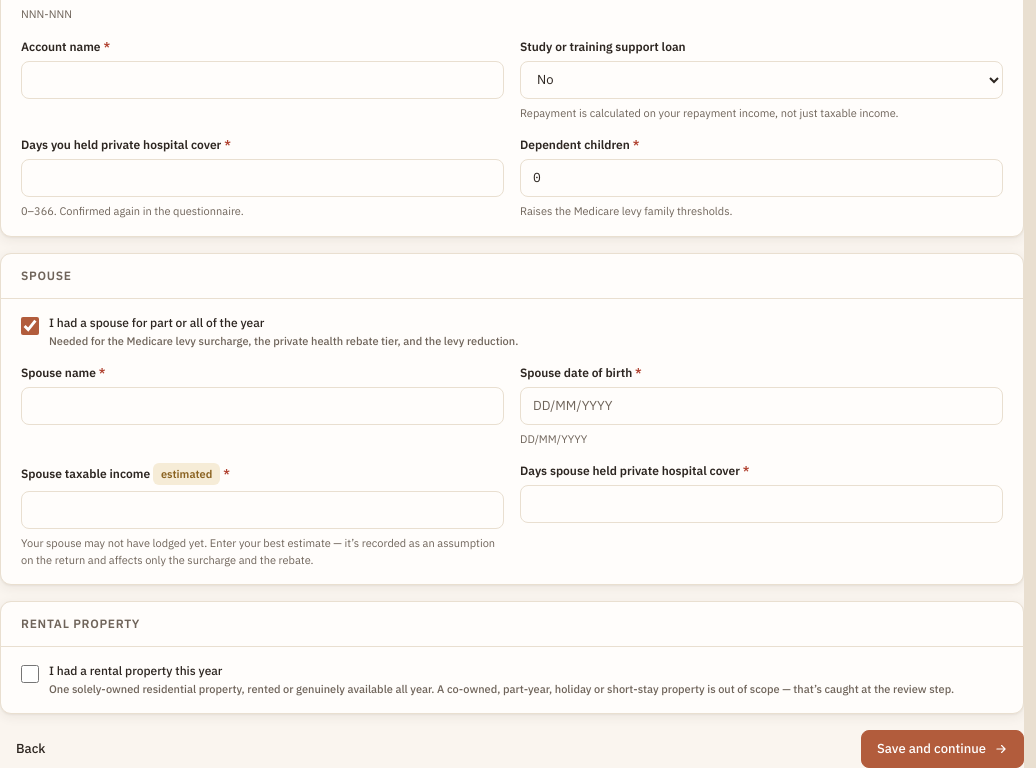
Scenario: DetailsForm — spouse toggle (PRD FR-1) › offers to copy a matching candidate's taxable income once the spouse name matches
(page scrolled)
expect the button "Copy from" is not shown: met
Type "Alex Sharma" into the field labelled "Spouse name *" at [262, 406], box [21, 386, 504, 424]
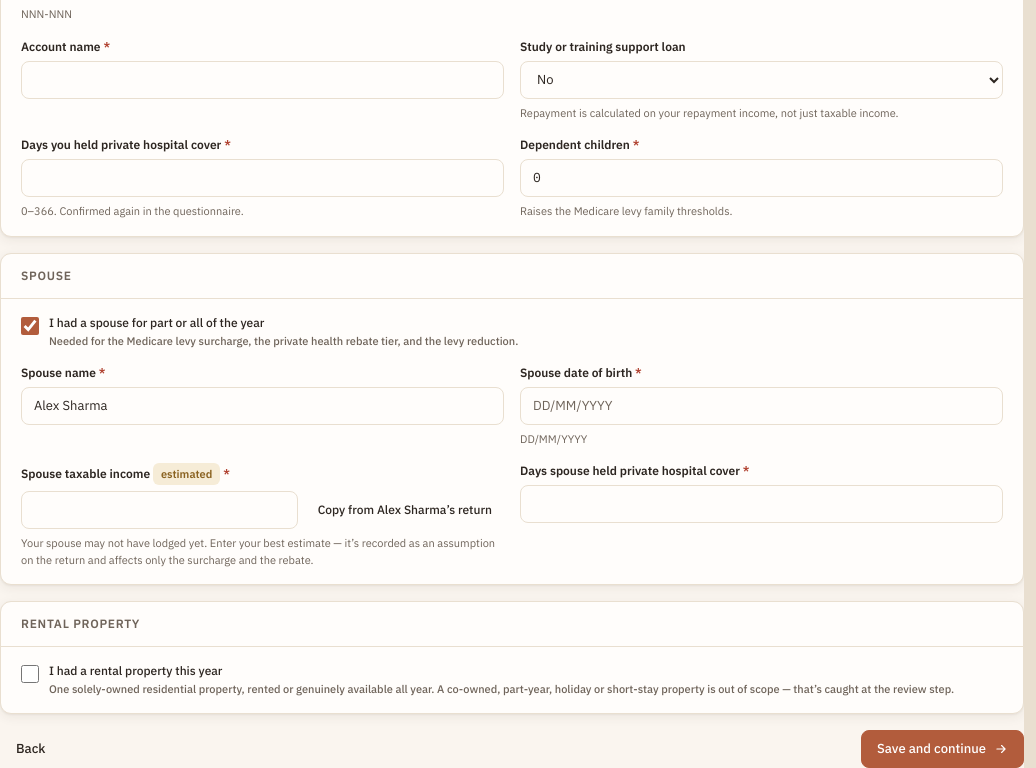
Click the button "Copy from Alex Sharma’s return" at [405, 510], box [306, 495, 504, 525]
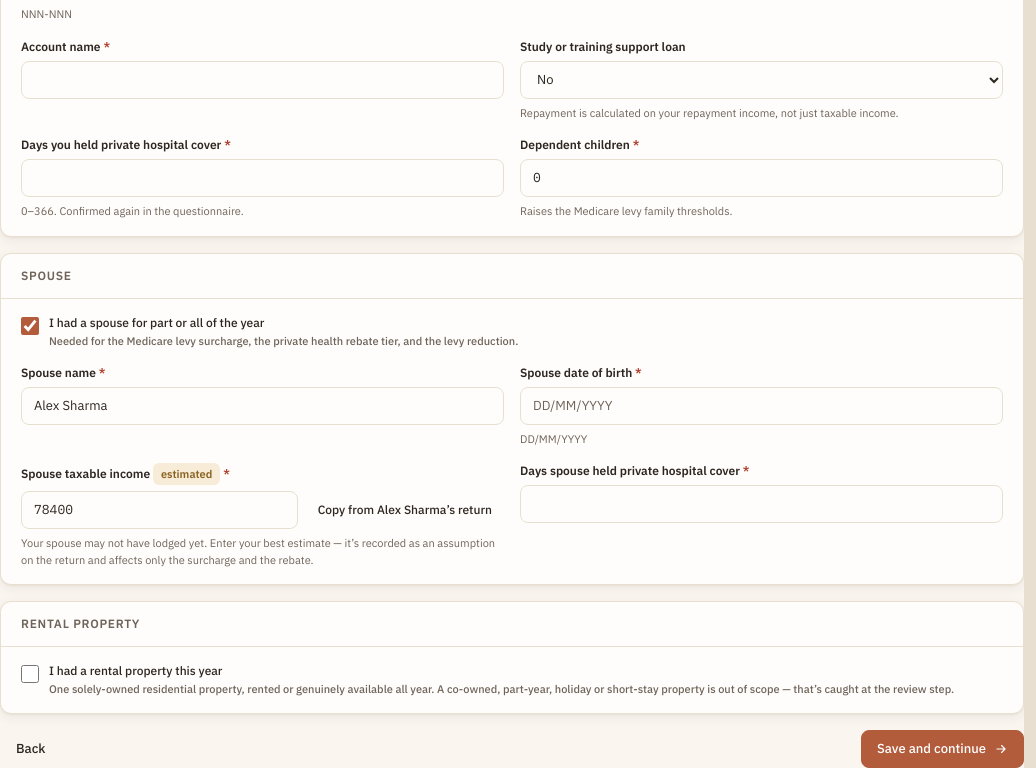
expect the field labelled "Spouse taxable income estimated *" holds "78400": met, box [21, 491, 298, 529]
